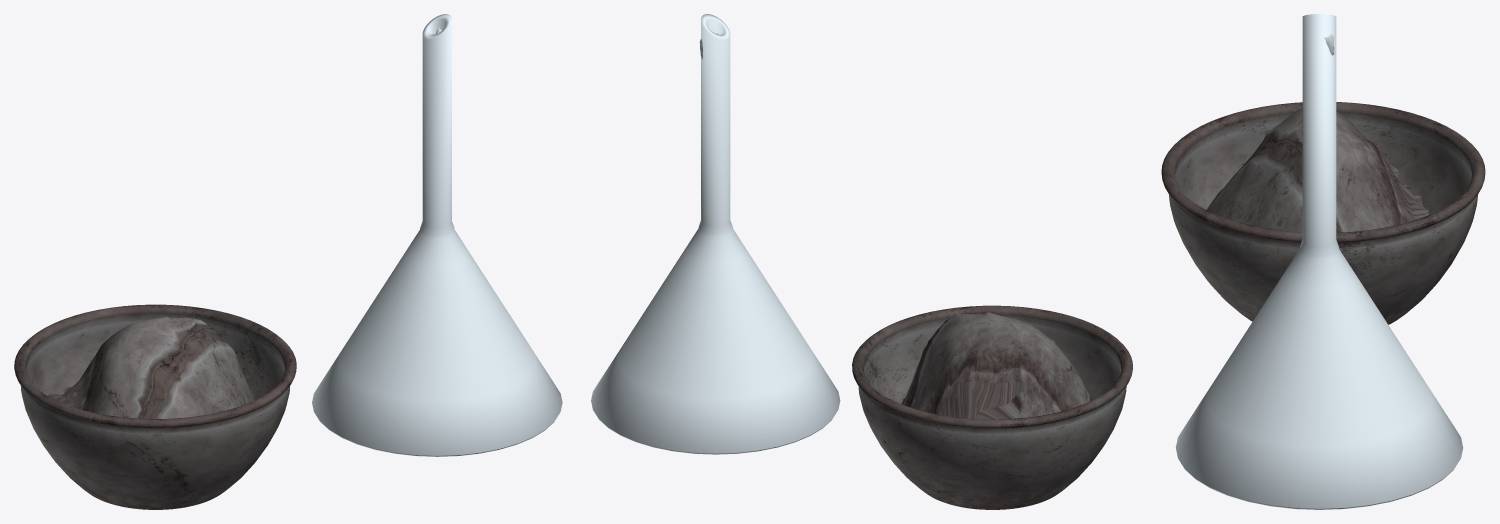
The model's file is sublimationStage.glb.
3 renders of one model, left to right at view 1: azimuth 30°, elevation 25°; view 2: azimuth 150°, elevation 25°; view 3: azimuth 270°, elevation 25°, orthographic. The views are drawn at different scales.
Parts seen in each view (by area): view 1: bowl, funnel; view 2: bowl, funnel; view 3: funnel, bowl.
Part boxes in pixels (x1,y1,x2,y2): bowl: (14, 304, 296, 509); funnel: (312, 14, 562, 456); bowl: (852, 305, 1132, 509); funnel: (591, 14, 840, 454); funnel: (1175, 14, 1463, 509); bowl: (1161, 102, 1485, 324).
Bounding box in the file's own units: 0.3964 × 0.2926 × 0.1898.
2 materials, 2 textured.
